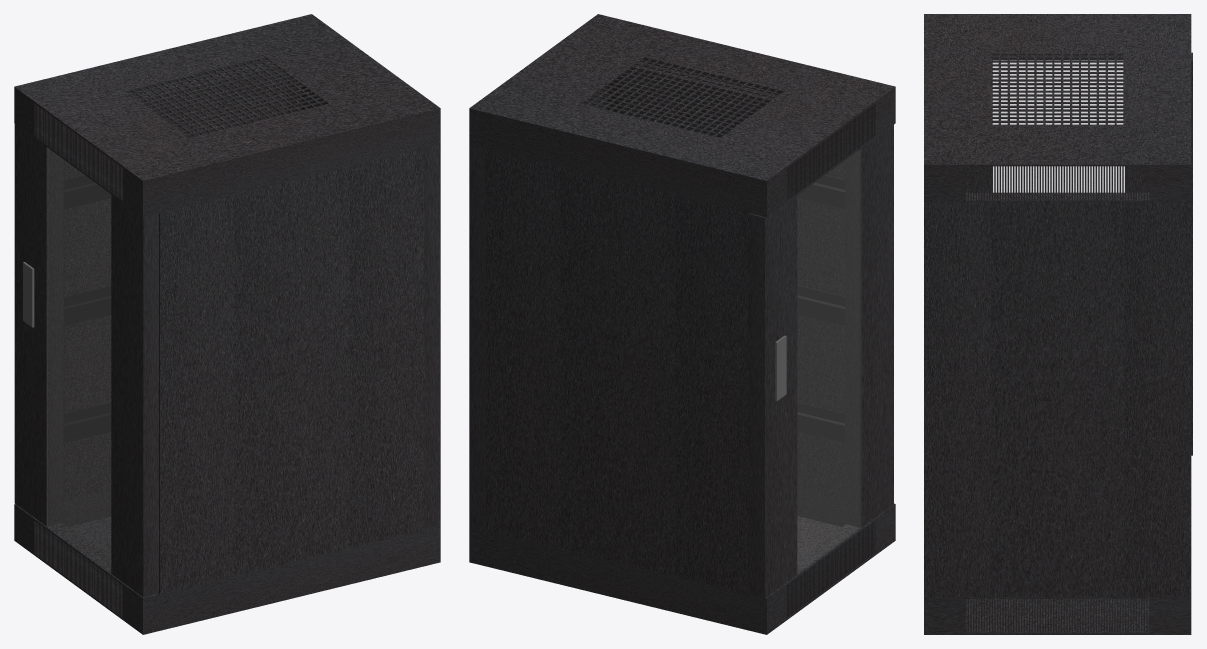
File: szafa_rack_19_22u.fbx
The picture shows the model from 3 angles, left to right: view 1: azimuth 30°, elevation 25°; view 2: azimuth 150°, elevation 25°; view 3: azimuth 270°, elevation 25°; orthographic projection. The views are drawn at different scales.
Parts seen in each view (by area): view 1: gora, sciana_prawa01, sciana_prawa03, sciana_prawa02, szklany_front, spod, drzwi002, drzwi001, sciana_lewa02, plecy2, sciana_lewa01, sciana_lewa03 (+2 smaller); view 2: gora, sciana_lewa01, sciana_lewa03, sciana_lewa02, szklany_front, spod, drzwi002, drzwi001, sciana_prawa03, plecy, sciana_prawa01, sciana_prawa02 (+1 smaller); view 3: plecy1, gora, plecy, plecy2, spod, szklany_front, drzwi001, drzwi002.
Part boxes in pixels (x1,y1,x2,y2): gora: (14, 14, 440, 217); sciana_prawa01: (234, 167, 349, 575); sciana_prawa03: (159, 195, 234, 593); sciana_prawa02: (349, 149, 423, 547); szklany_front: (47, 148, 110, 572); spod: (14, 490, 440, 634); drzwi002: (111, 194, 158, 597); drzwi001: (14, 124, 63, 526); sciana_lewa02: (64, 160, 111, 500); plecy2: (424, 145, 440, 529); sciana_lewa01: (141, 81, 230, 137); sciana_lewa03: (230, 68, 287, 127); gora: (469, 14, 895, 217); sciana_lewa01: (560, 167, 675, 575); sciana_lewa03: (486, 149, 560, 547); sciana_lewa02: (675, 195, 748, 593); szklany_front: (797, 149, 861, 573); spod: (469, 489, 895, 634); drzwi002: (845, 125, 893, 527); drzwi001: (748, 195, 797, 598); sciana_prawa03: (797, 161, 844, 500); plecy: (469, 145, 485, 529); sciana_prawa01: (679, 81, 768, 137); sciana_prawa02: (622, 68, 679, 127); plecy1: (991, 202, 1124, 596); gora: (924, 14, 1191, 202); plecy: (1124, 202, 1191, 596); plecy2: (924, 202, 990, 596); spod: (924, 597, 1191, 634); szklany_front: (993, 63, 1124, 192); drzwi001: (1126, 52, 1192, 455); drzwi002: (966, 60, 992, 192).
Bounding box in the file's own units: 31.57 × 46.89 × 23.77.
4 materials, 2 textured.
